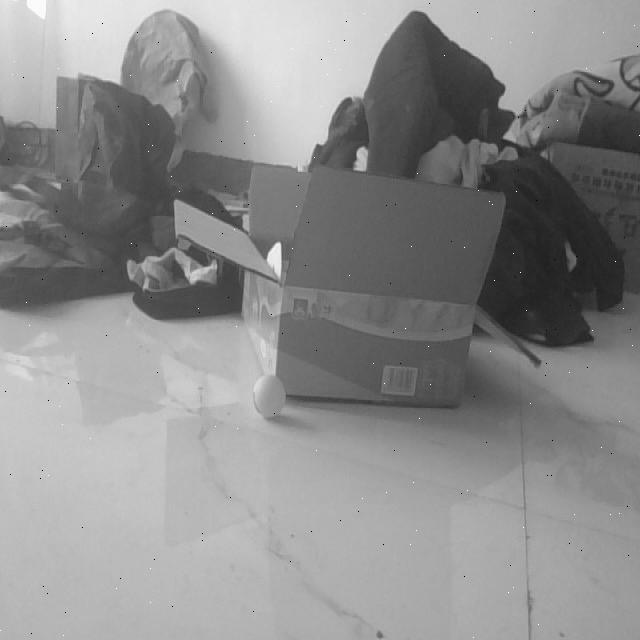ping-pong-ball: (252, 378, 286, 420)
